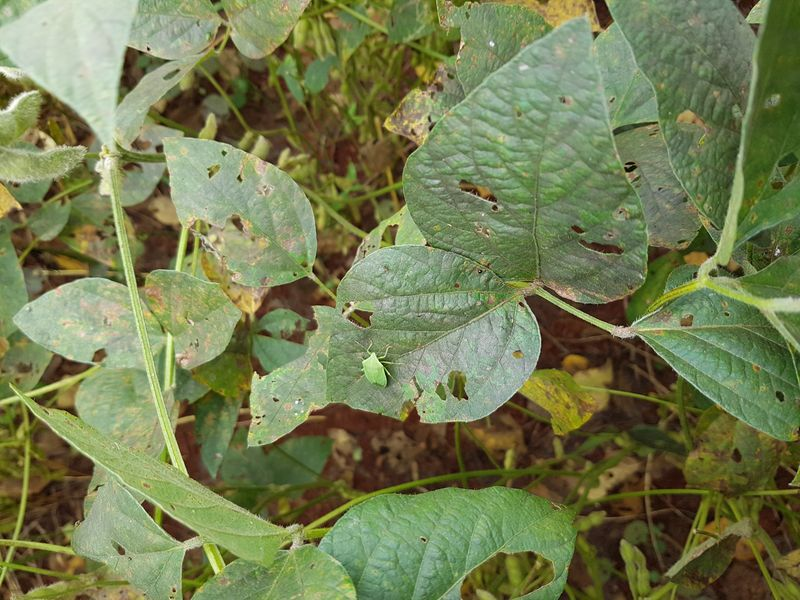Nezara_viridula_adulto: (346, 334, 406, 394)
